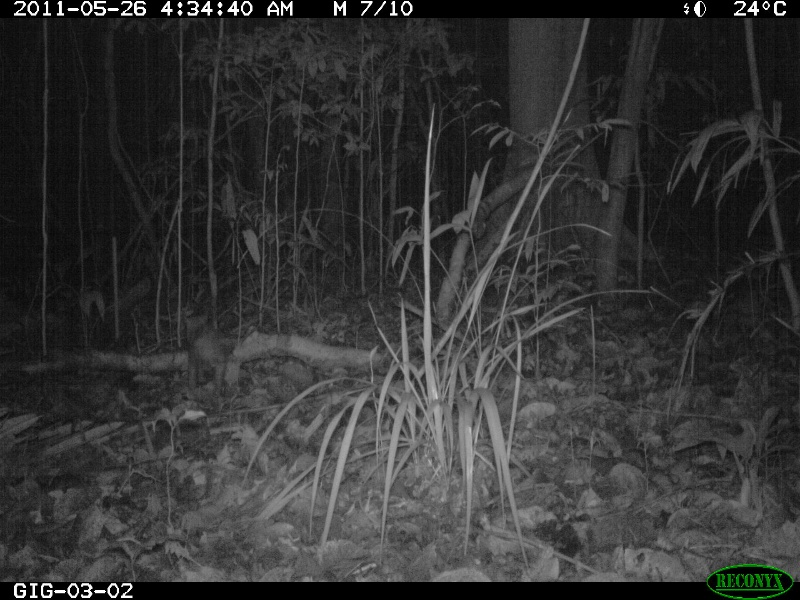opossum: (181, 311, 233, 391)
